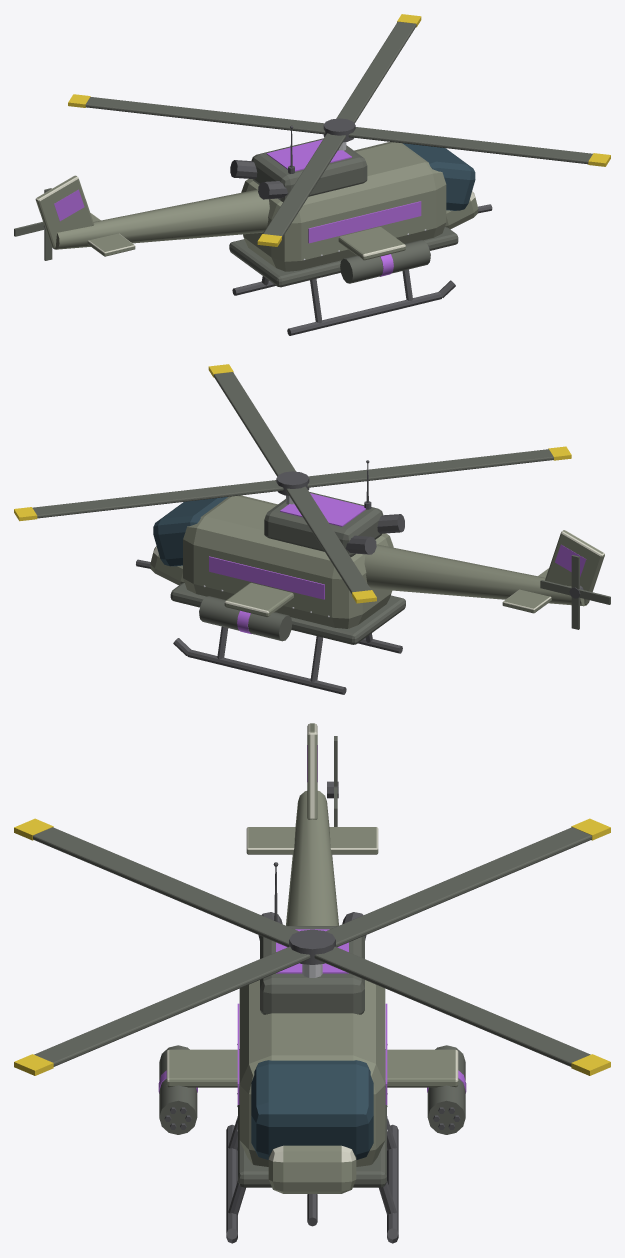
Rendered from gunship_purple.glb.
3 renders of one model, top to bottom at view 1: azimuth 30°, elevation 25°; view 2: azimuth 150°, elevation 25°; view 3: azimuth 270°, elevation 25°, orthographic. The views are drawn at different scales.
Parts seen in each view (by area): view 1: Body, Rotor, TailRotor; view 2: Body, Rotor, TailRotor; view 3: Body, Rotor.
Boxes of the visible parts, box(x1,y1,x2,y2) form: Body: box(35, 125, 492, 335); Rotor: box(68, 14, 610, 246); TailRotor: box(14, 188, 52, 260); Body: box(136, 460, 604, 694); Rotor: box(14, 364, 571, 603); TailRotor: box(540, 555, 610, 629); Body: box(158, 723, 466, 1243); Rotor: box(14, 818, 610, 1075).
Size of the model in its own units: 5.72 by 2.16 by 4.09.
1 material, 1 textured.
